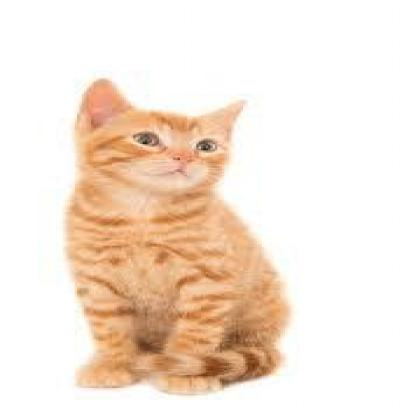gato: (43, 68, 326, 402)
